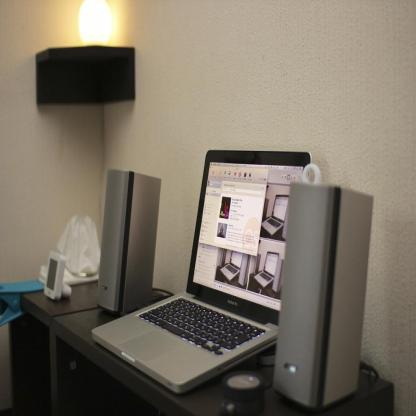board: (91, 150, 311, 392)
